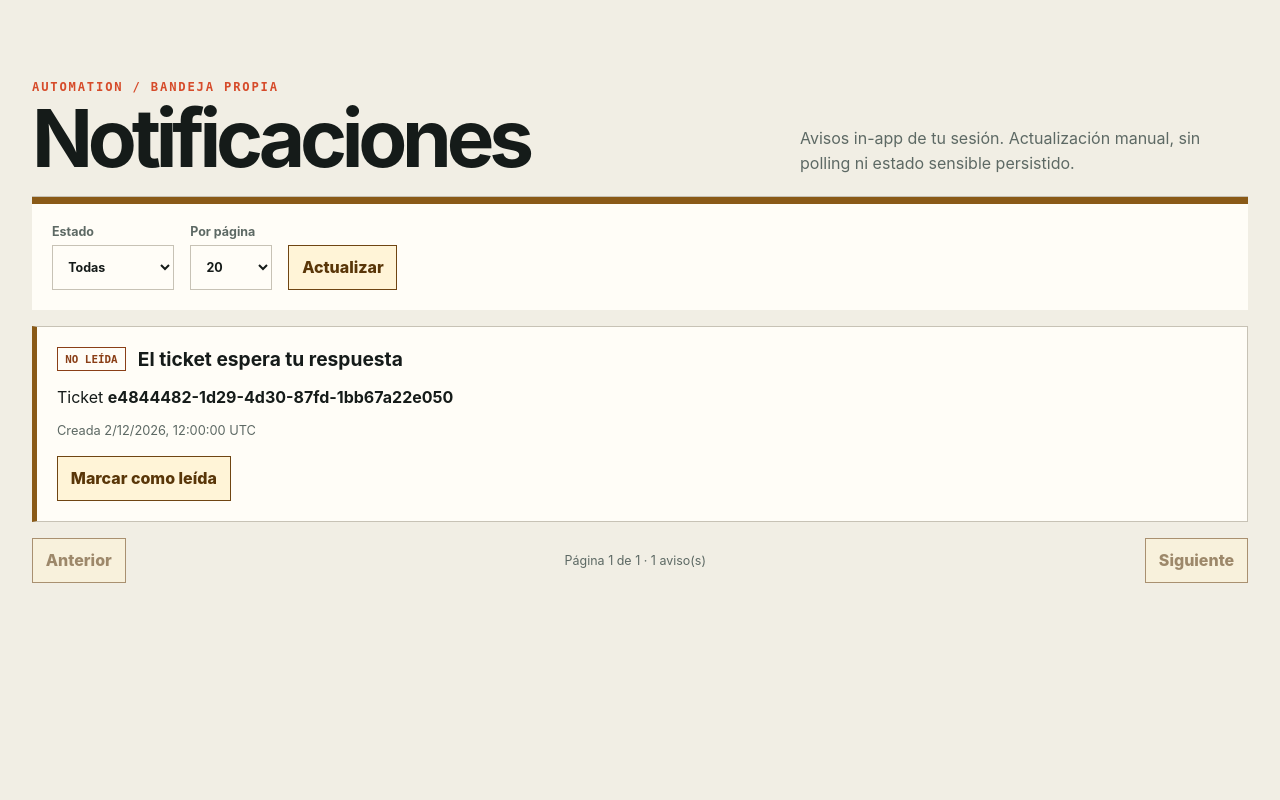
Test case: NotificationWorkspace › keeps version conflicts visible without an automatic mutation retry
The width and height of the screenshot is (1280, 800).
What coordinates should you click on to do the following:
click the button "Marcar como leída"
I would click on:
 (144, 478)
Its box is [57, 456, 231, 501].
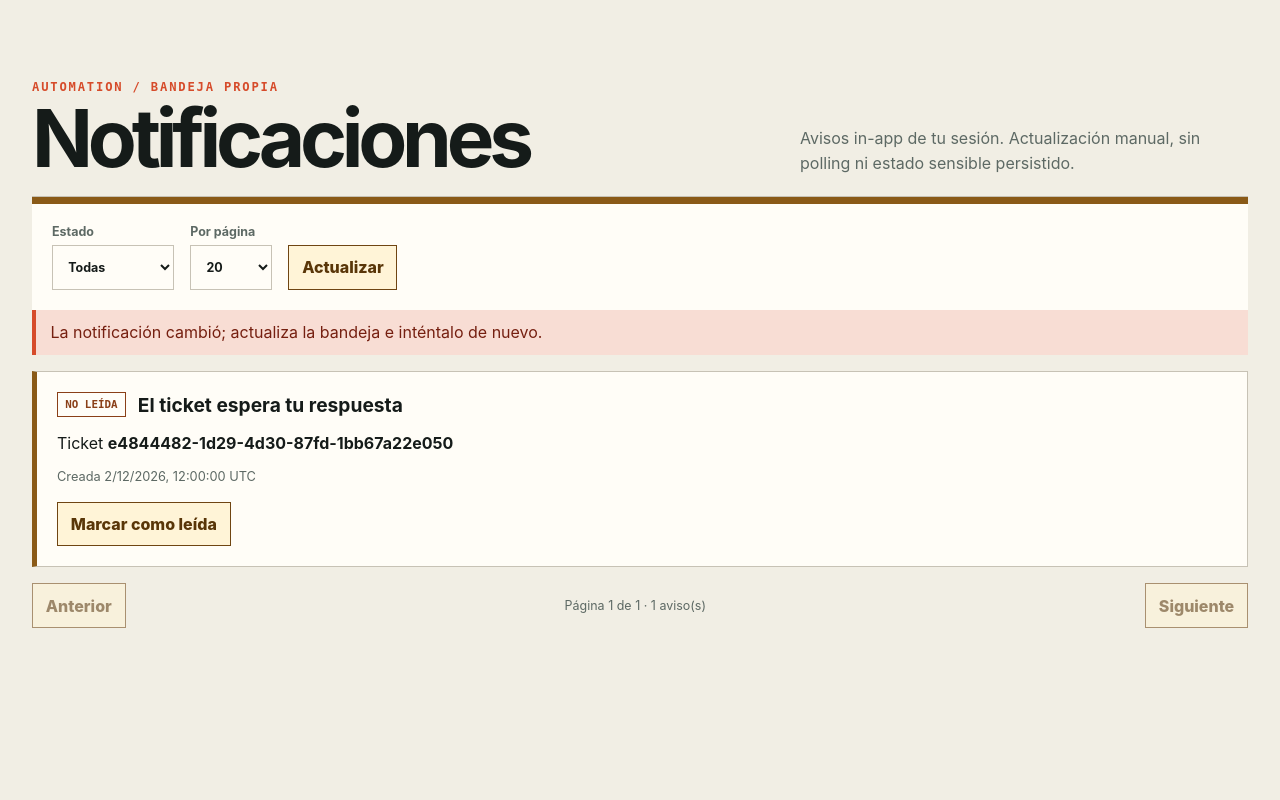
Expected: the message shows "La notificación cambió", [50, 322, 542, 342]
